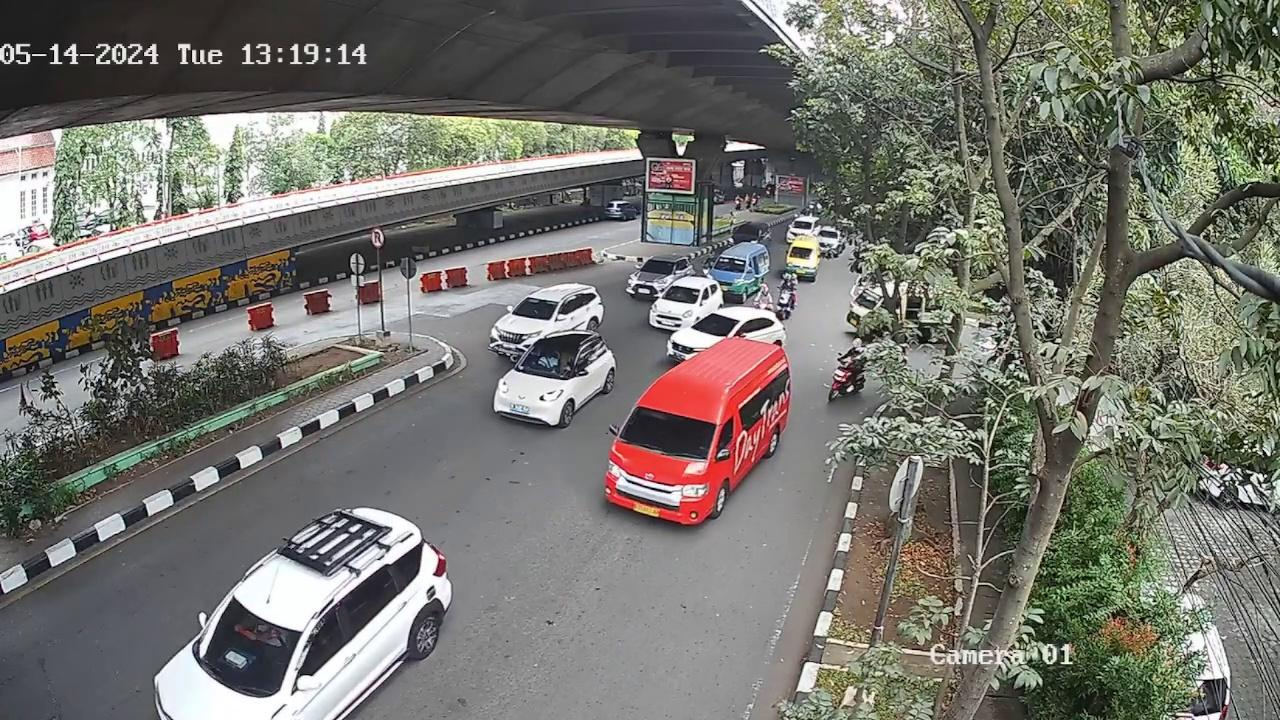pakai: (535, 350, 564, 373)
windshield: (185, 593, 307, 705), (623, 400, 725, 466), (522, 342, 578, 378)
